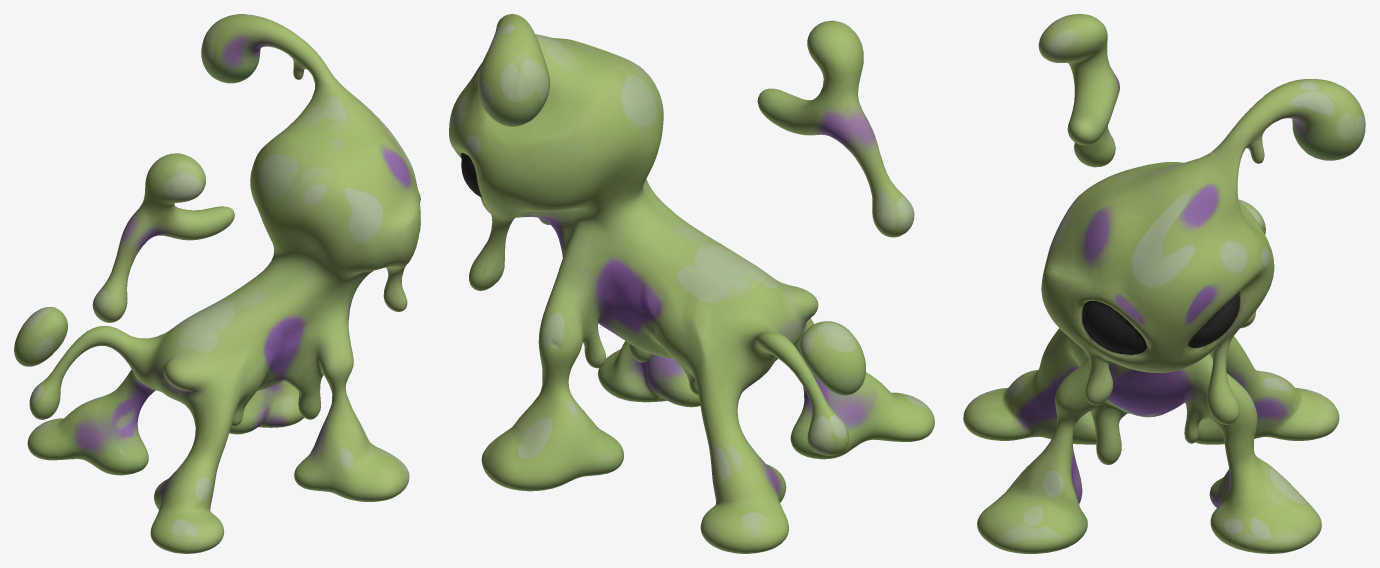
File: n4_drippit.6a988b3f.glb
The picture shows the model from 3 angles, left to right: view 1: azimuth 30°, elevation 25°; view 2: azimuth 150°, elevation 25°; view 3: azimuth 270°, elevation 25°; orthographic projection. The views are drawn at different scales.
Visible parts, largest first — view 1: tripo_node_aff3e74e-7b7b-46f9-b72e-d67c8c349b12; view 2: tripo_node_aff3e74e-7b7b-46f9-b72e-d67c8c349b12; view 3: tripo_node_aff3e74e-7b7b-46f9-b72e-d67c8c349b12.
Part boxes in pixels (x1,y1,x2,y2): tripo_node_aff3e74e-7b7b-46f9-b72e-d67c8c349b12: (14, 14, 420, 553); tripo_node_aff3e74e-7b7b-46f9-b72e-d67c8c349b12: (449, 14, 934, 553); tripo_node_aff3e74e-7b7b-46f9-b72e-d67c8c349b12: (963, 14, 1365, 553).
Size of the model in its own units: 0.9798 by 0.9999 by 0.7933.
Materials: 1 (1 with a texture image).
